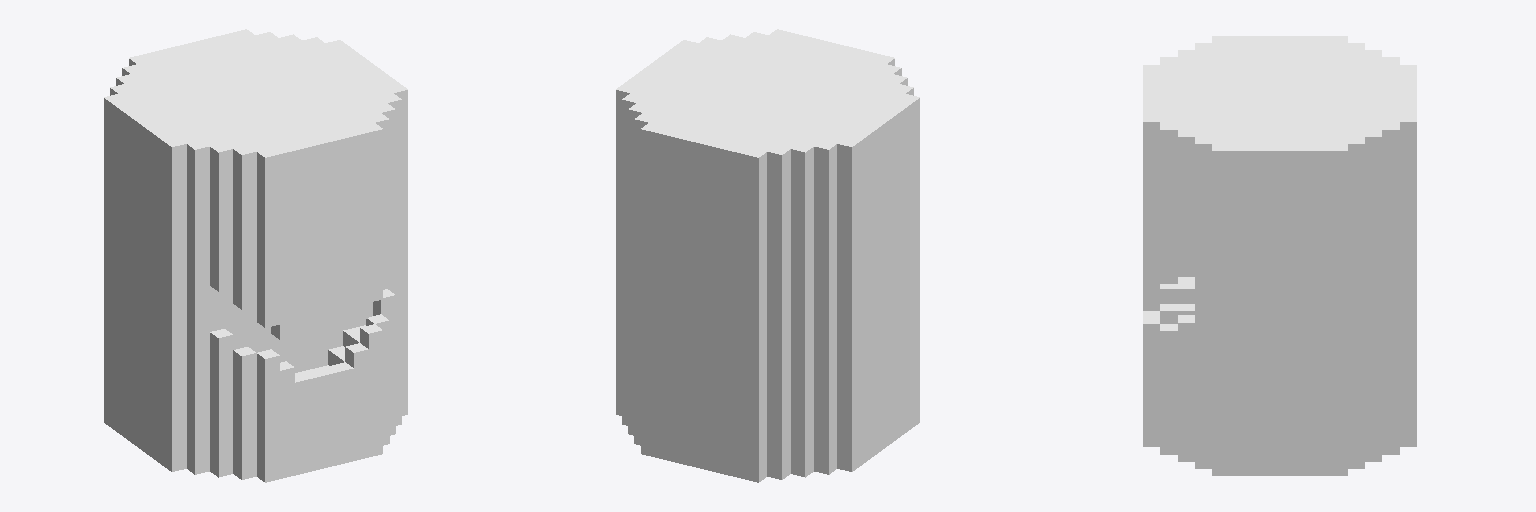
File: canblue.obj
3 renders of one model, left to right at view 1: azimuth 30°, elevation 25°; view 2: azimuth 150°, elevation 25°; view 3: azimuth 270°, elevation 25°, orthographic.
Parts seen in each view (by area): view 1: object 1; view 2: object 1; view 3: object 1.
Boxes of the visible parts, x1=… form: object 1: x1=104, y1=29, x2=407, y2=482; object 1: x1=616, y1=29, x2=919, y2=482; object 1: x1=1143, y1=36, x2=1416, y2=475.
Size of the model in its own units: 1.6 by 2.1 by 1.6.